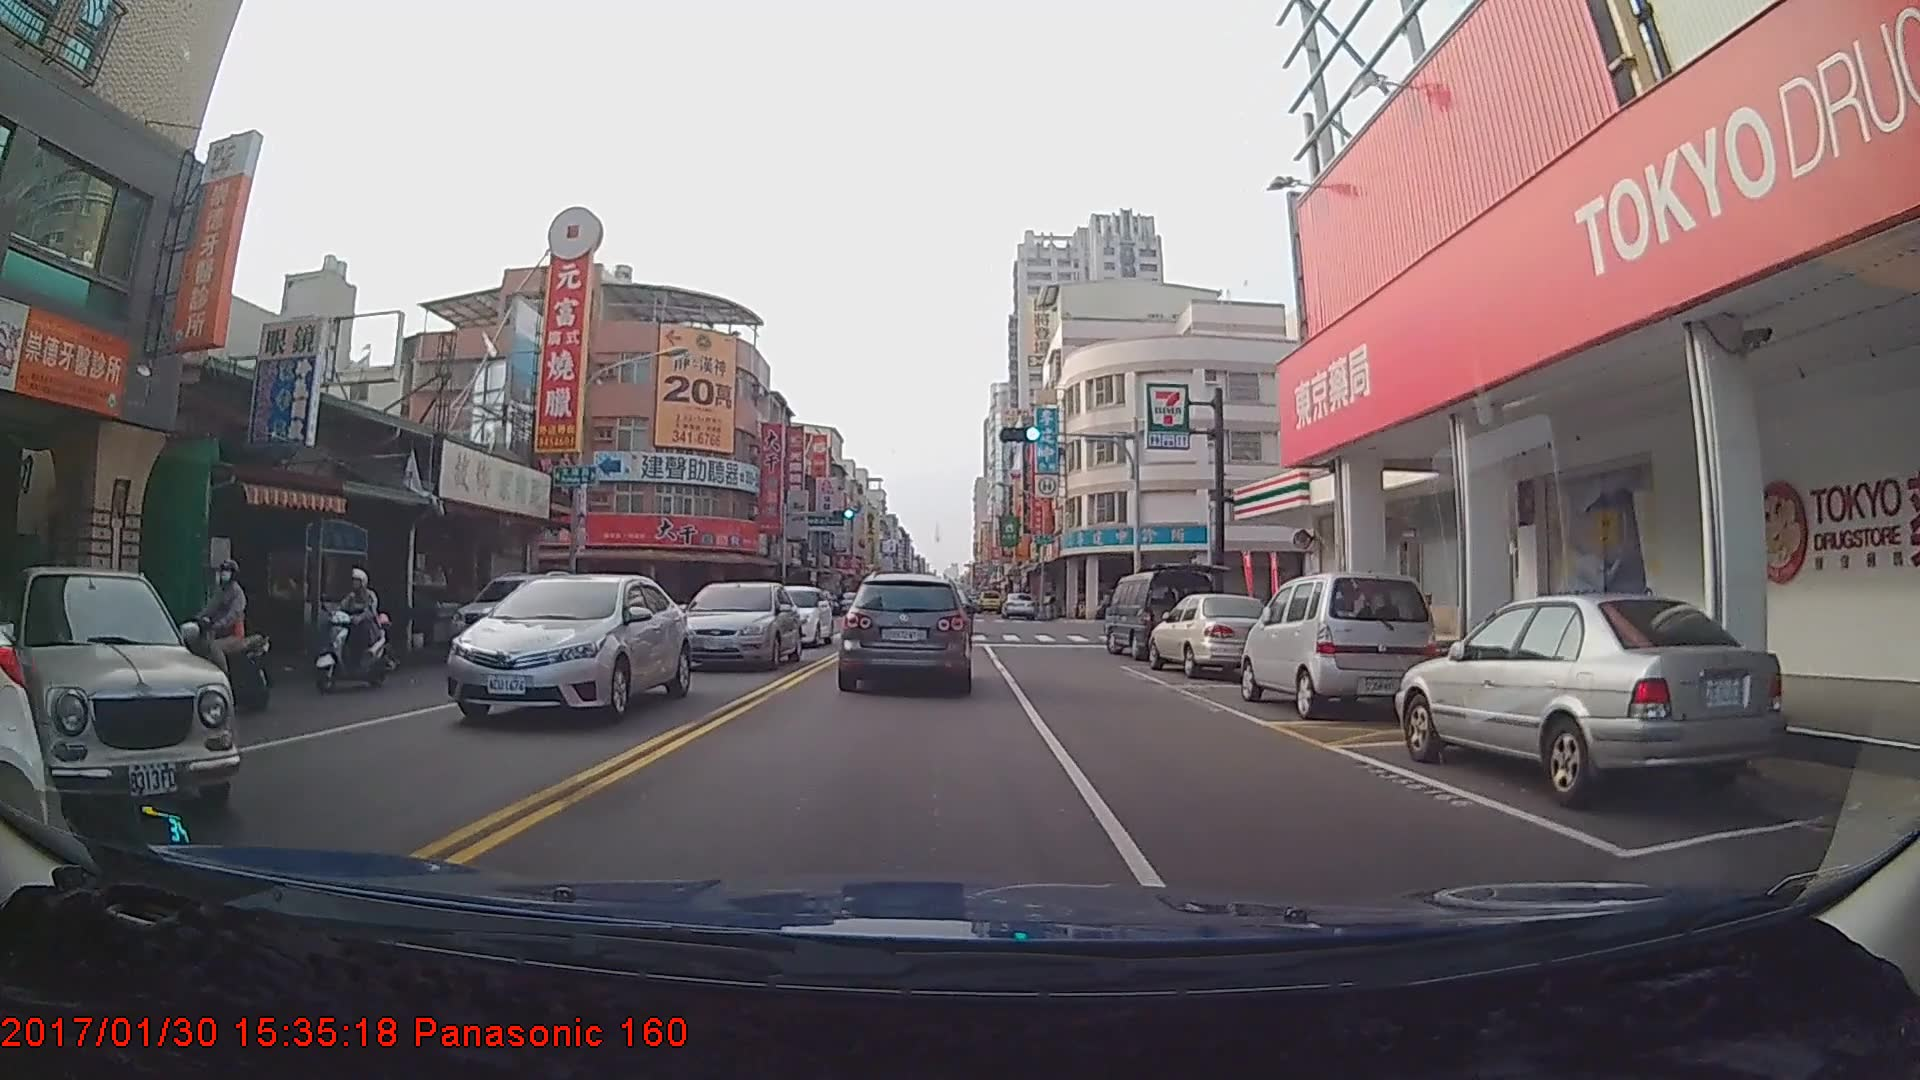rider: (167, 556, 276, 713), (306, 567, 400, 692)
vehicle: (1398, 590, 1785, 807), (0, 566, 240, 818), (442, 572, 688, 732), (1241, 570, 1433, 720), (842, 572, 971, 691), (1148, 592, 1280, 680), (450, 569, 578, 660), (676, 581, 802, 673), (1104, 574, 1217, 658), (753, 586, 835, 647), (997, 591, 1036, 618)
